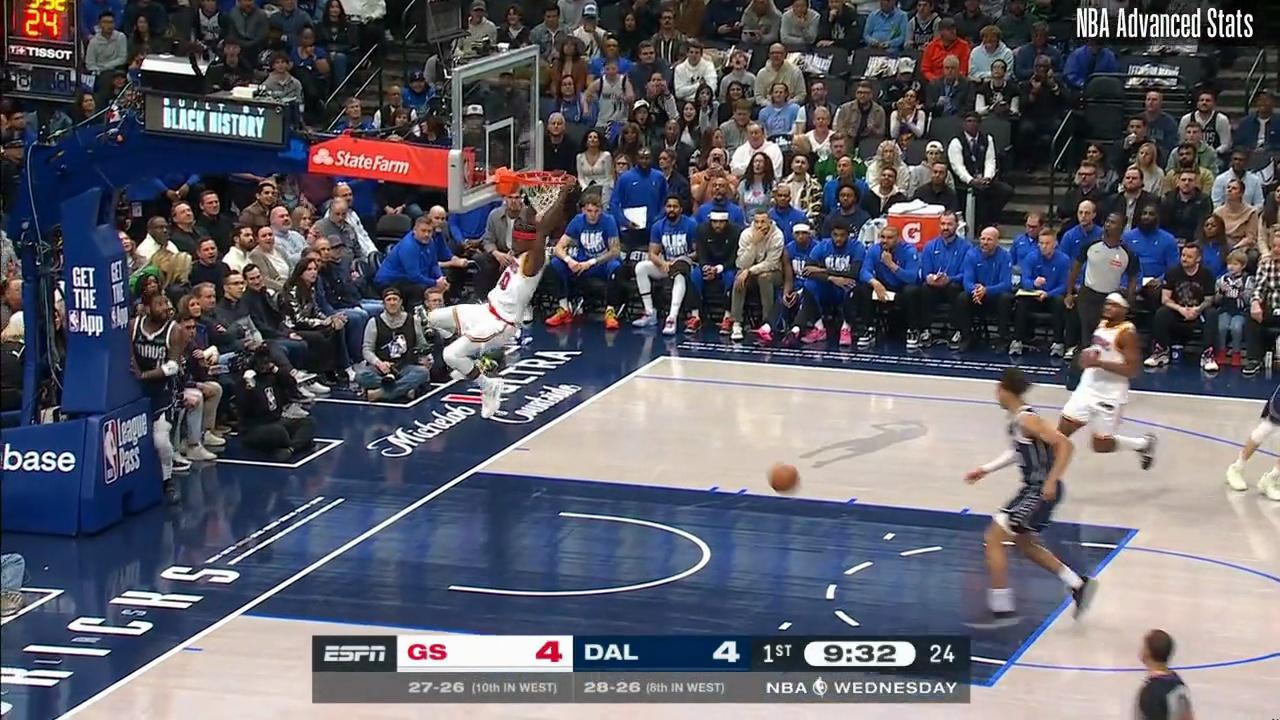basketball: (767, 460, 802, 498)
